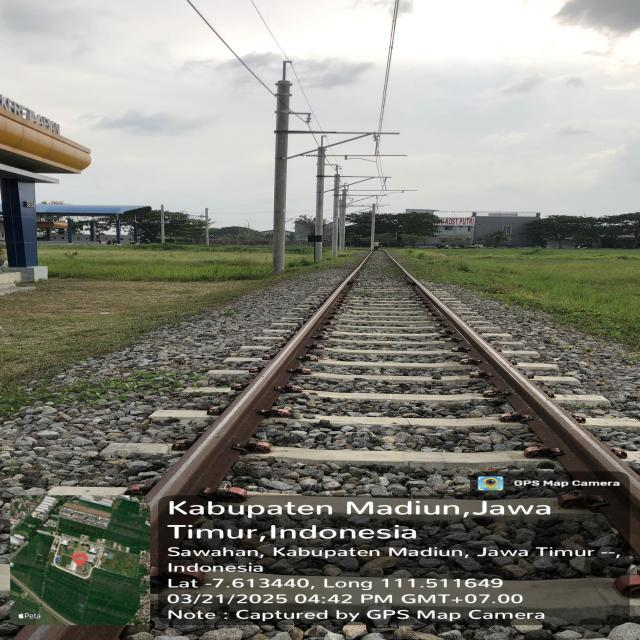rail-detection: (148, 261, 365, 574), (405, 272, 640, 554)
